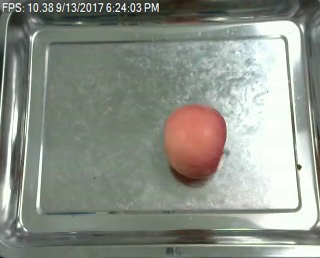Apple: (160, 98, 228, 184)
